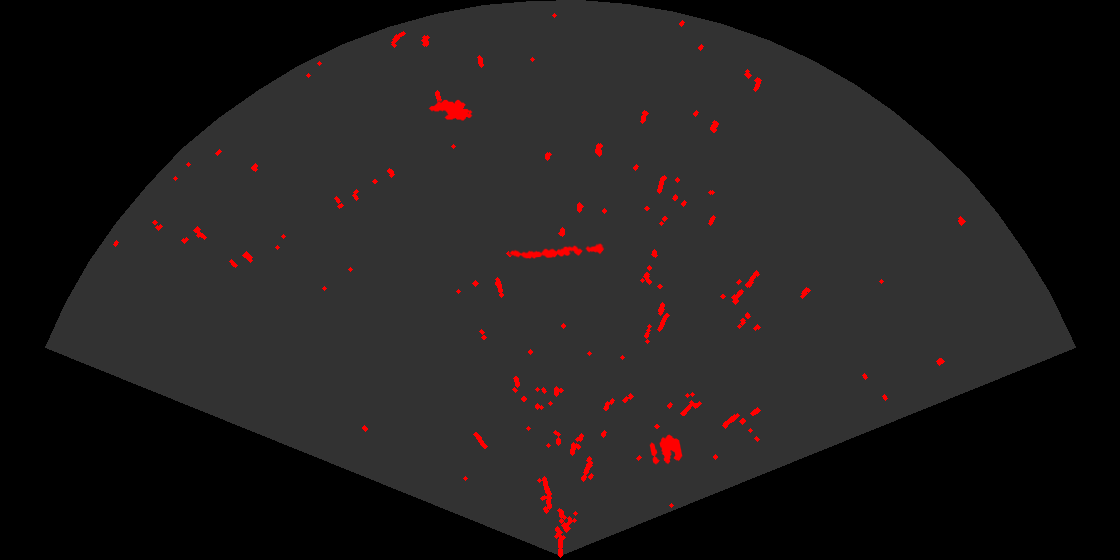AUV: (427, 98, 474, 122)
ball: (648, 433, 684, 466)
chain: (508, 242, 606, 260)
